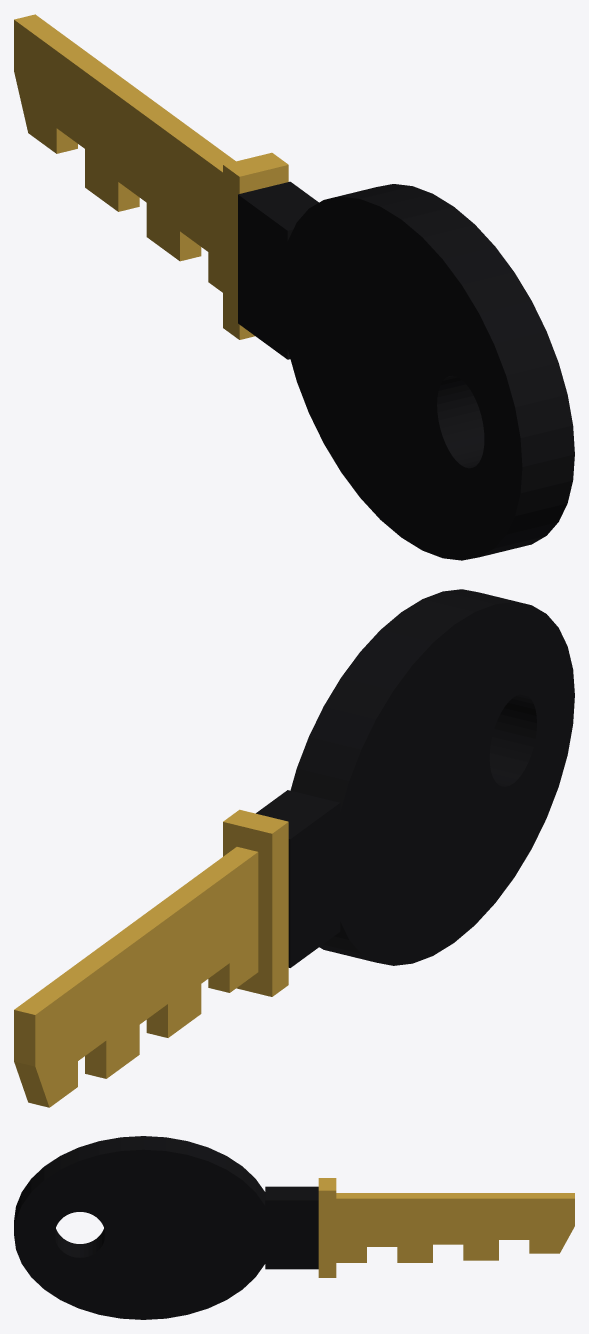
File: key.obj
3 views of the same model, one above another, from view 1: azimuth 30°, elevation 25°; view 2: azimuth 150°, elevation 25°; view 3: azimuth 270°, elevation 25° (orthographic). The views are drawn at different scales.
Visible parts, largest first — view 1: part3, part0, part2, part1; view 2: part3, part0, part2, part1; view 3: part3, part0, part2, part1.
Part boxes in pixels (<box>): part3: <box>280,184,574,560</box>; part0: <box>14,14,235,292</box>; part2: <box>238,181,318,359</box>; part1: <box>223,152,288,339</box>; part3: <box>290,589,574,965</box>; part0: <box>14,847,258,1107</box>; part2: <box>256,790,340,967</box>; part1: <box>223,809,288,996</box>; part3: <box>14,1136,272,1319</box>; part0: <box>336,1193,574,1262</box>; part2: <box>265,1186,318,1269</box>; part1: <box>318,1178,336,1277</box>.
Bounding box in the file's own units: 0.0064 × 0.037 × 0.1105.
